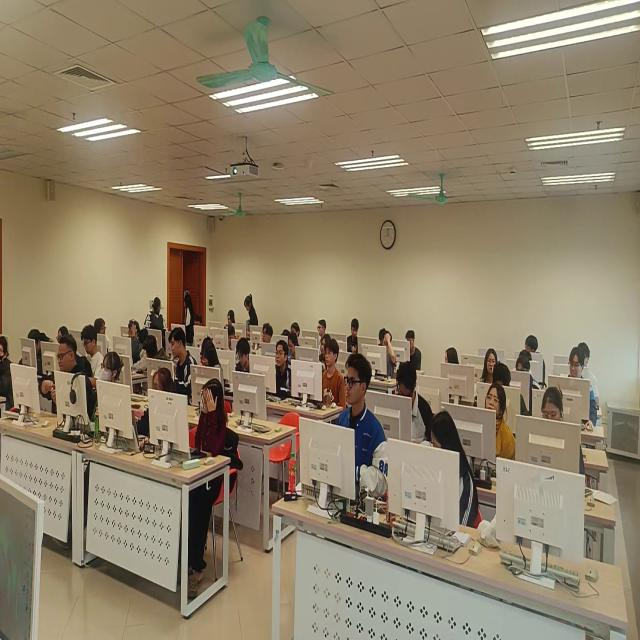raise_head: (336, 351, 389, 506), (91, 351, 124, 447), (486, 384, 516, 464), (322, 338, 346, 405), (580, 342, 602, 414), (275, 338, 294, 399), (1, 333, 14, 414), (479, 348, 498, 385), (126, 319, 140, 368), (320, 332, 330, 363), (263, 322, 274, 343), (291, 320, 303, 338), (318, 316, 328, 337)
stand: (151, 296, 167, 350), (183, 291, 196, 346), (244, 292, 260, 332)
using_computer: (431, 408, 480, 530), (541, 385, 585, 485), (132, 363, 174, 450), (395, 357, 431, 450), (567, 344, 597, 429), (171, 327, 197, 393), (202, 336, 227, 389), (83, 323, 104, 381), (516, 352, 541, 395), (28, 326, 47, 378), (382, 328, 398, 381), (408, 328, 424, 371), (236, 337, 251, 379), (346, 318, 361, 355), (287, 333, 300, 360), (226, 307, 237, 328), (58, 324, 69, 345), (227, 325, 236, 350), (379, 325, 386, 347), (195, 314, 204, 330)
using_phone: (44, 336, 96, 425)
